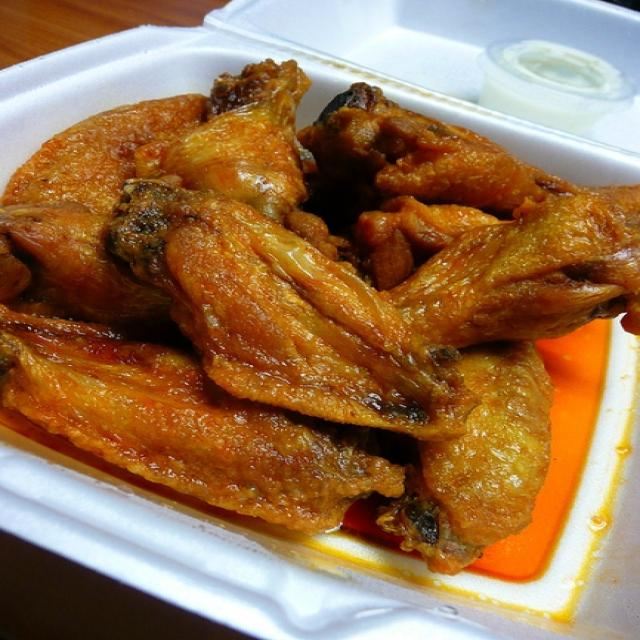鸡肉料理 含炸鸡: (19, 37, 602, 589)
